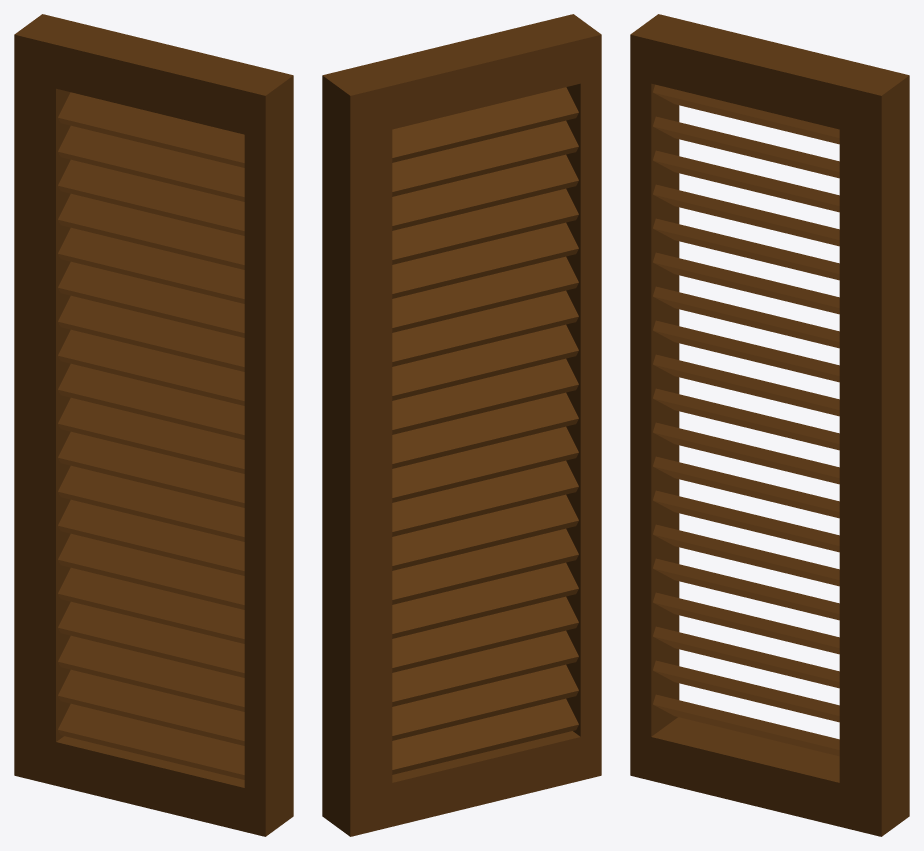
Rendered from puertaIzq.obj.
3 views of the same model, side by side, from view 1: azimuth 90°, elevation 25°; view 2: azimuth 150°, elevation 25°; view 3: azimuth 270°, elevation 25° (orthographic).
Parts seen in each view (by area): view 1: polySurface59; view 2: polySurface59; view 3: polySurface59.
Part boxes in pixels (x1,y1,x2,y2): polySurface59: (14, 14, 293, 836); polySurface59: (322, 14, 601, 836); polySurface59: (630, 14, 909, 836).
Bounding box in the file's own units: 0.3851 × 1.62 × 0.5551.
Materials: 1 (1 with a texture image).
